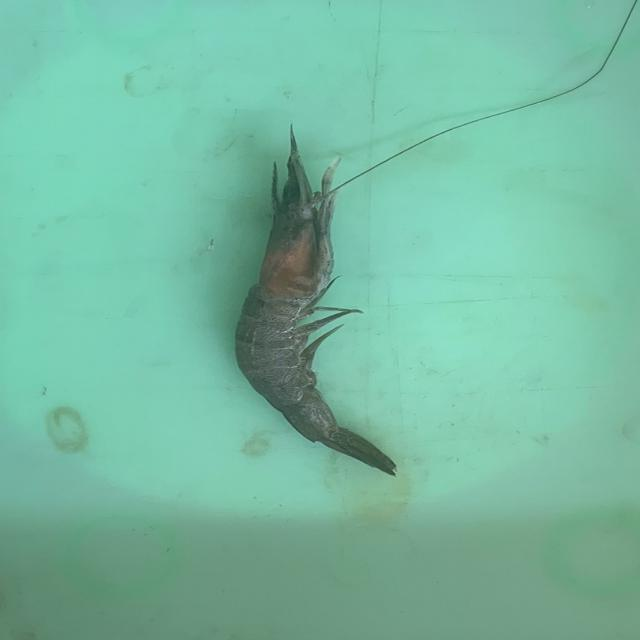shrimp: (237, 129, 396, 476)
